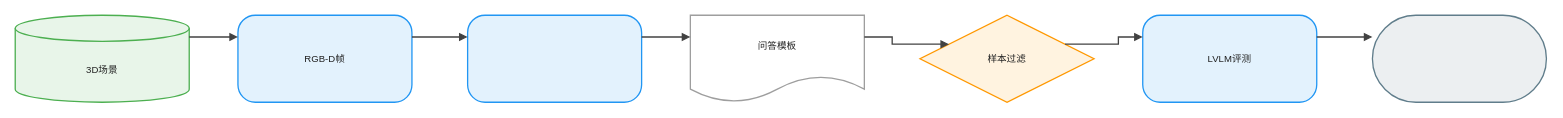
Image size: 1563x118. Some labels were removed from this diagram. Here are the shapes that lost their labels. From the top down, the centre of each, then its label:
the point at 554,58: 空间三元组
the point at 1459,58: 准确率
